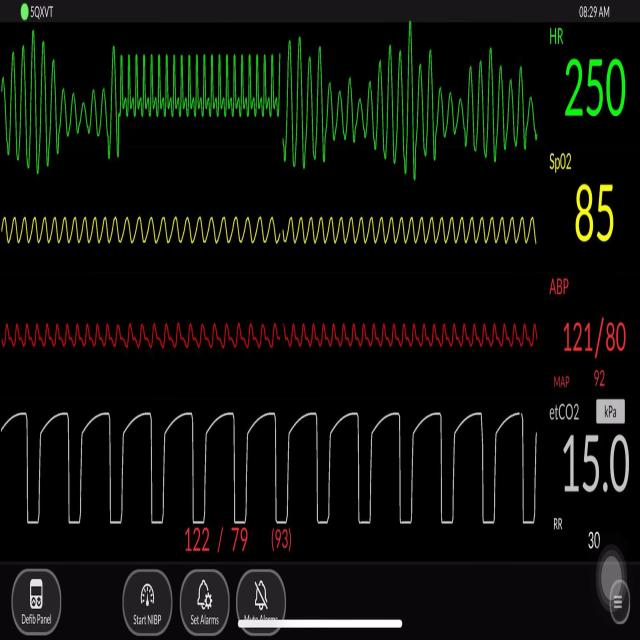danger: (292, 25, 540, 191), (112, 29, 283, 130), (2, 18, 100, 191)
